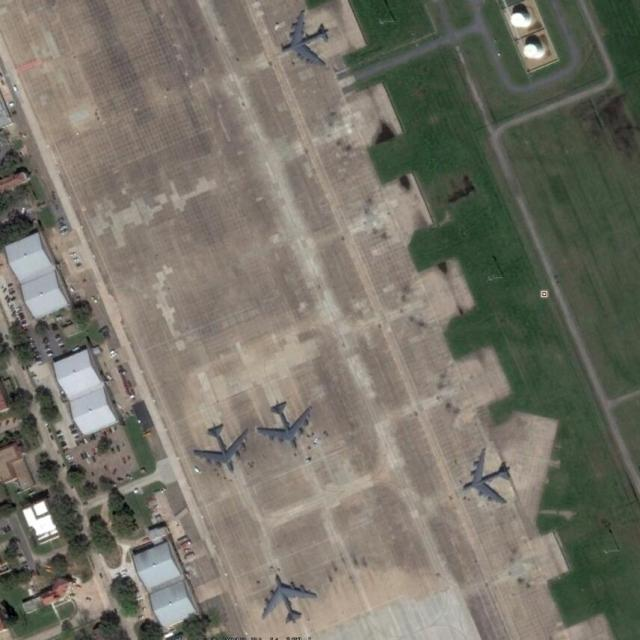fighter jet: (281, 14, 334, 80), (262, 571, 306, 628), (467, 449, 506, 512), (202, 421, 244, 478), (266, 400, 306, 457), (195, 404, 198, 412)
